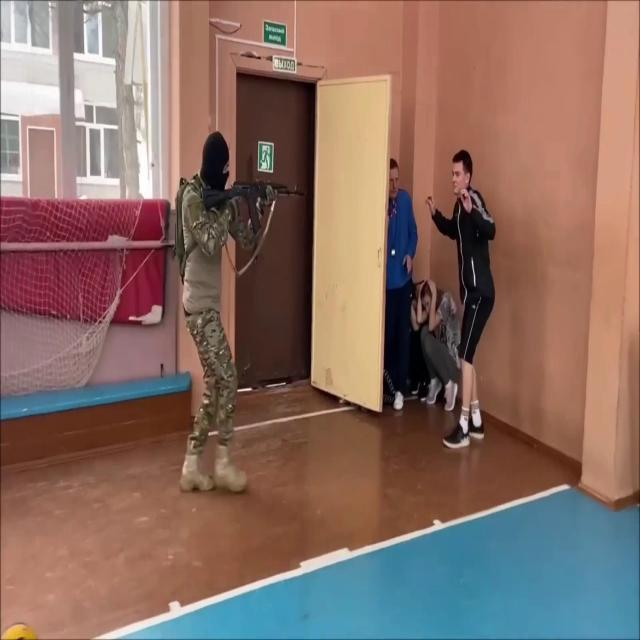pistol: (201, 176, 308, 236)
